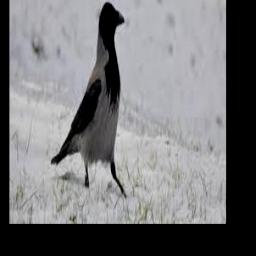Crow: (50, 0, 125, 197)
